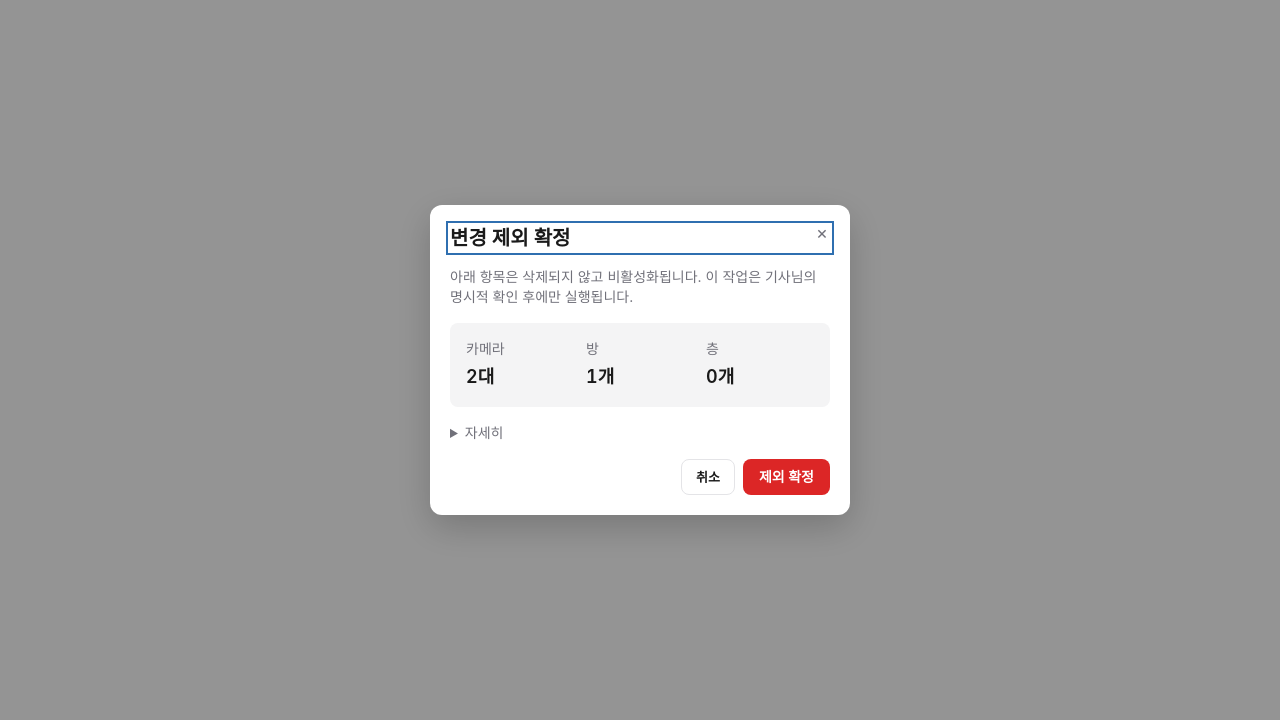
Scenario: TopologyConfirmationDialog › refuses confirmation when the durable preview changed after the dialog opened
This screenshot has width=1280, height=720.
Click the button "제외 확정": (786,477) [743,459,830,495]
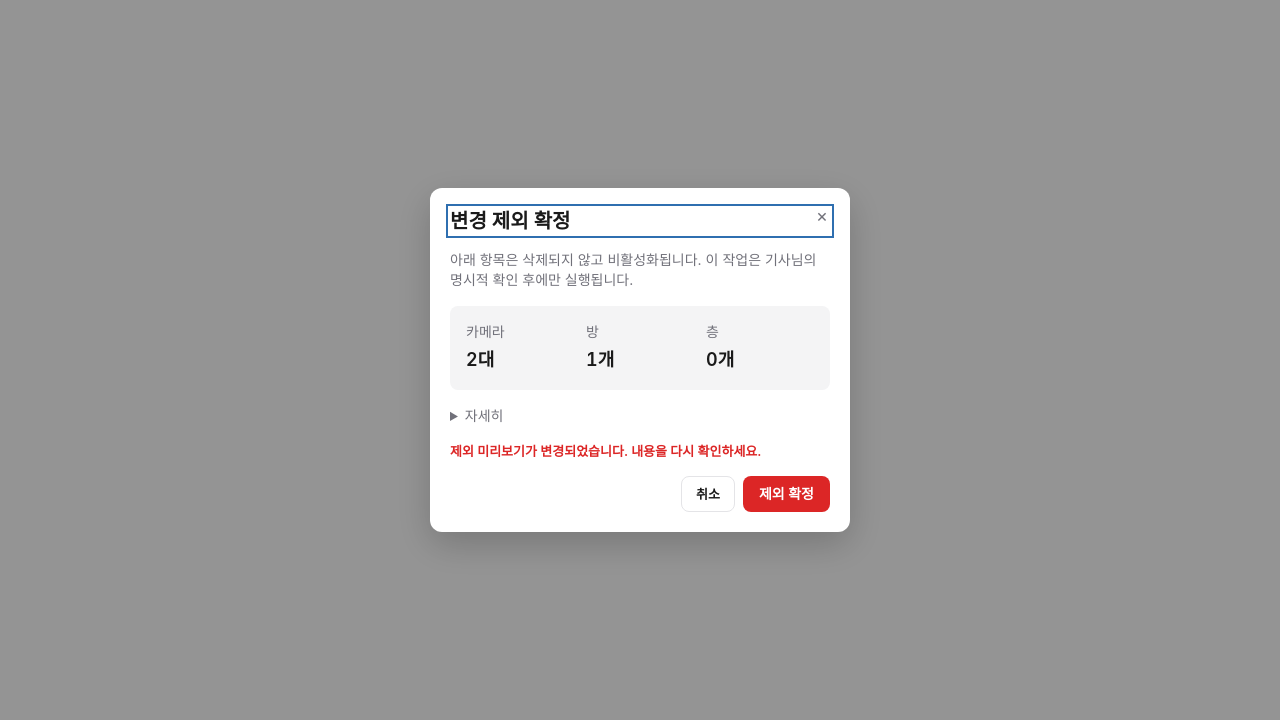
expect the message "제외 미리보기가 변경되었습니다. 내용을 다시 확인하세요." is shown: met, box [450,443,762,459]
